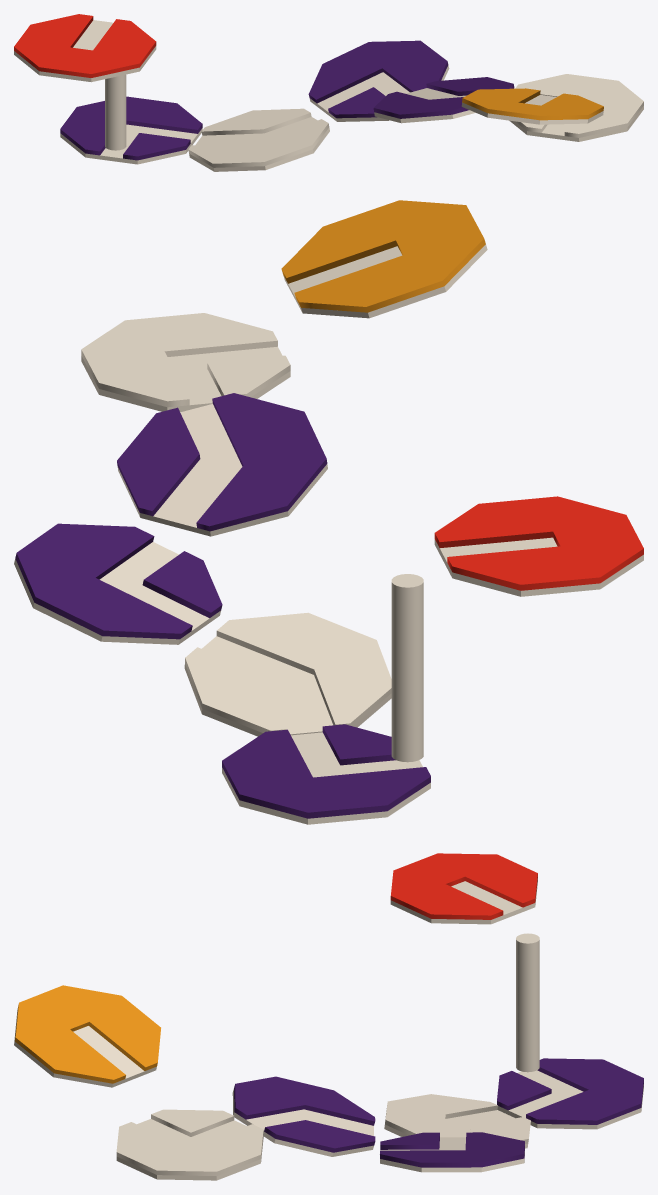
The model's file is Lvl_003.FBX.
3 views of the same model, one above another, from view 1: azimuth 30°, elevation 25°; view 2: azimuth 150°, elevation 25°; view 3: azimuth 270°, elevation 25° (orthographic). The views are drawn at different scales.
Parts seen in each view (by area): view 1: NGon041; view 2: NGon041; view 3: NGon041.
Boxes of the visible parts, x1,y1,x2,y2 form: NGon041: (14, 14, 643, 171); NGon041: (14, 200, 643, 824); NGon041: (14, 853, 643, 1180).
Bounding box in the file's own units: 61.96 × 20.47 × 64.39.
